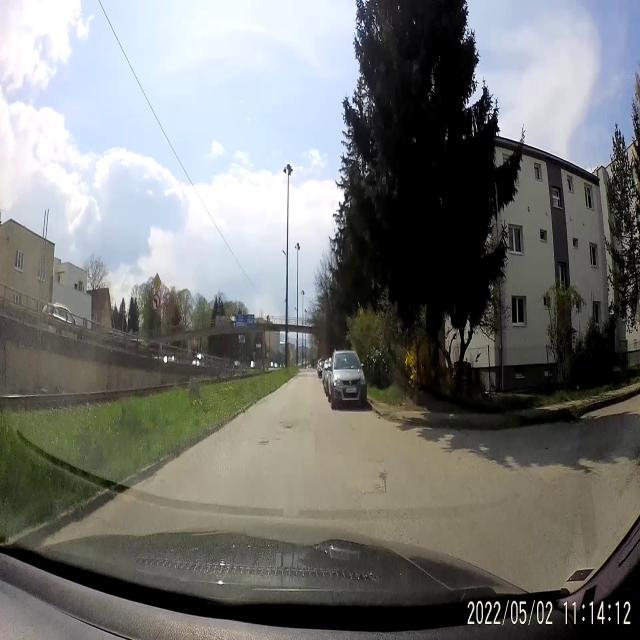Pothole: (258, 435, 276, 455), (374, 462, 386, 489), (282, 416, 298, 432)
